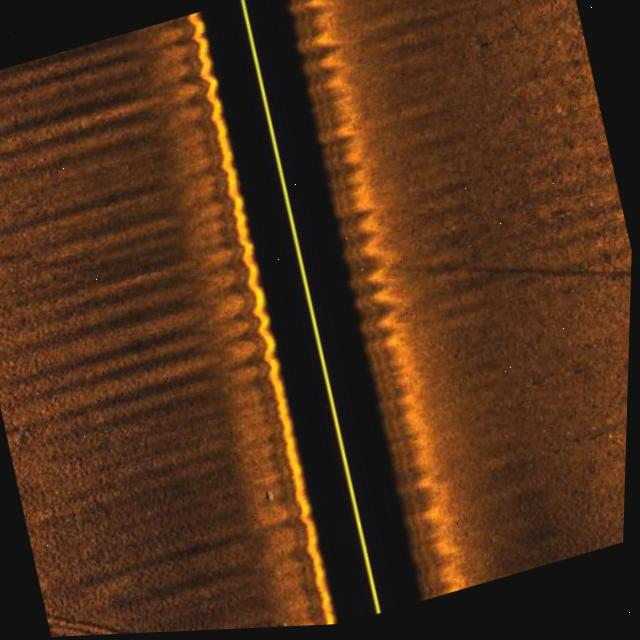mine: (265, 489, 280, 508), (184, 625, 203, 633)
